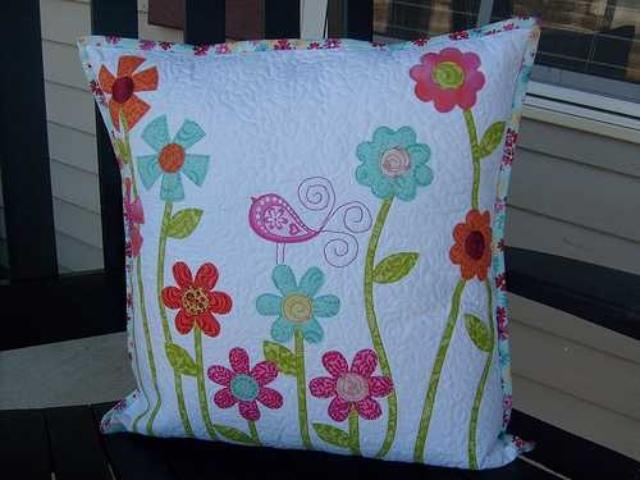pillow: (74, 16, 542, 470)
